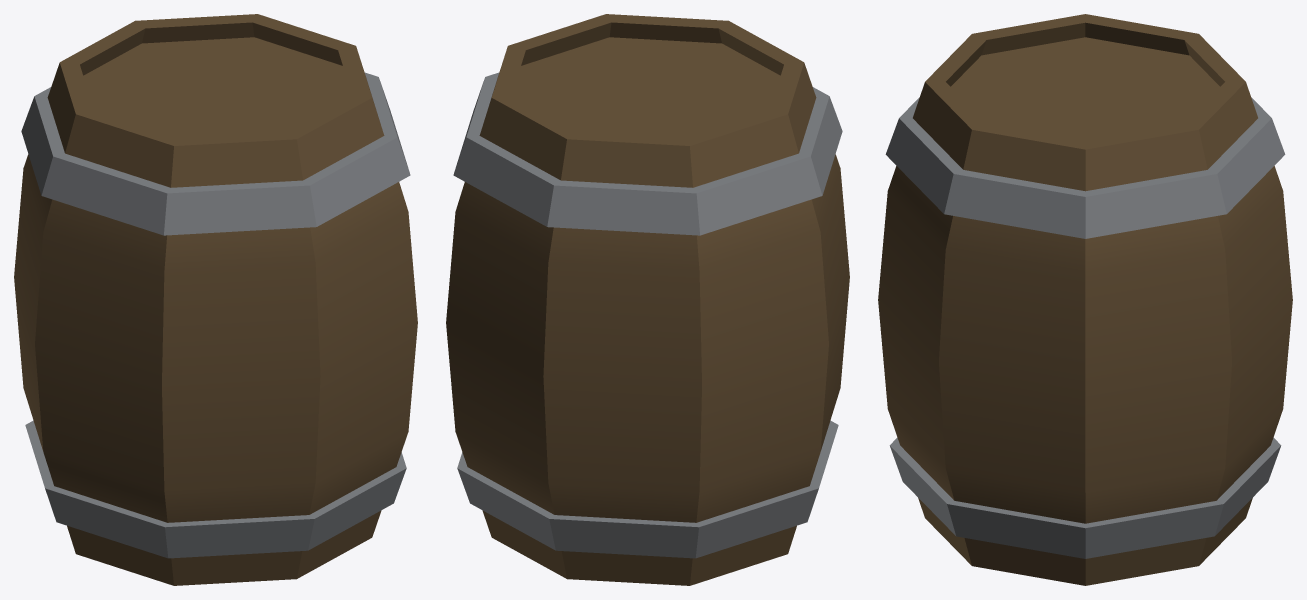
Rendered from Barrel_01.fbx.
The picture shows the model from 3 angles, left to right: view 1: azimuth 30°, elevation 25°; view 2: azimuth 150°, elevation 25°; view 3: azimuth 270°, elevation 25°; orthographic projection.
Visible parts, largest first — view 1: pCylinder1; view 2: pCylinder1; view 3: pCylinder1.
Boxes of the visible parts, left/top/right/bottom form: pCylinder1: left=14, top=14, right=417, bottom=585; pCylinder1: left=446, top=14, right=849, bottom=585; pCylinder1: left=878, top=14, right=1292, bottom=585.
Size of the model in its own units: 67.98 by 78.91 by 67.98.
